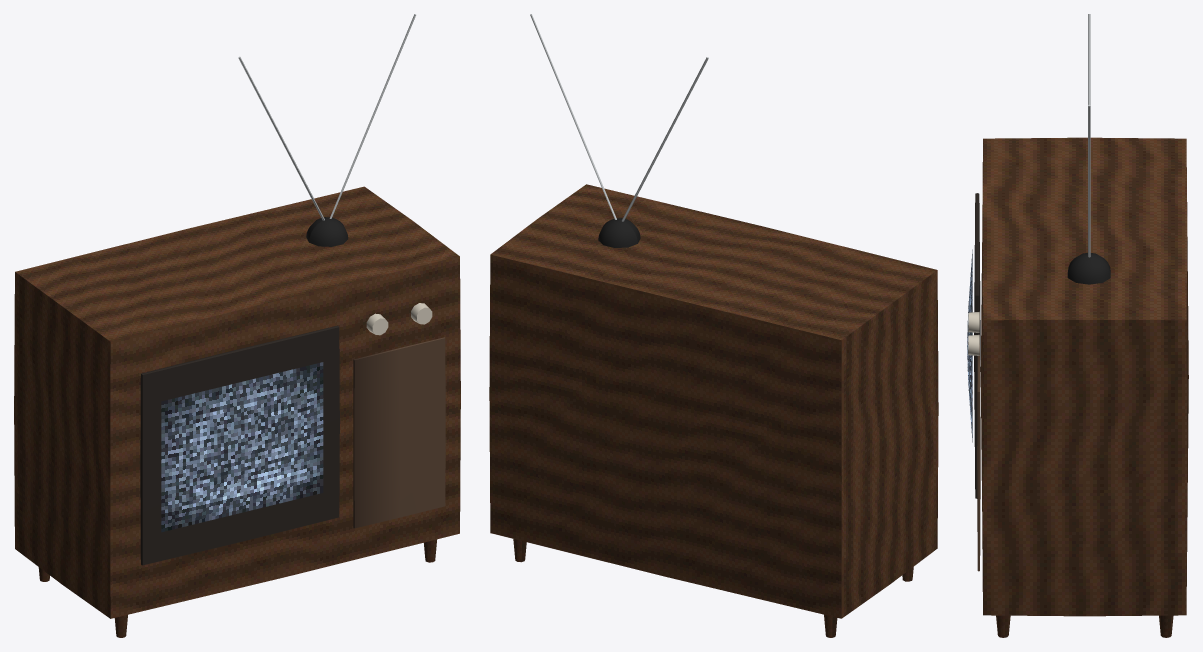
Rendered from tv_console.glb.
3 renders of one model, left to right at view 1: azimuth 30°, elevation 25°; view 2: azimuth 150°, elevation 25°; view 3: azimuth 270°, elevation 25°, orthographic. The views are drawn at different scales.
Visible parts, largest first — view 1: cabinet, screen, bezel, speaker_grille, antenna_base; view 2: cabinet, antenna_base; view 3: cabinet, bezel, antenna_base, speaker_grille, screen, antenna_L.
Part boxes in pixels (x1,y1,x2,y2): cabinet: [14, 186, 460, 618]; screen: [161, 362, 323, 532]; bezel: [140, 325, 339, 565]; speaker_grille: [353, 337, 445, 528]; antenna_base: [306, 217, 348, 246]; cabinet: [489, 184, 938, 618]; antenna_base: [598, 218, 640, 247]; cabinet: [980, 137, 1188, 616]; bezel: [974, 193, 980, 498]; antenna_base: [1067, 253, 1110, 284]; speaker_grille: [977, 345, 980, 571]; screen: [967, 249, 972, 442]; antenna_L: [1088, 104, 1090, 257].
Bounding box in the file's own units: 0.9719 × 1.33 × 0.49.
Materials: 3 (2 with a texture image).
